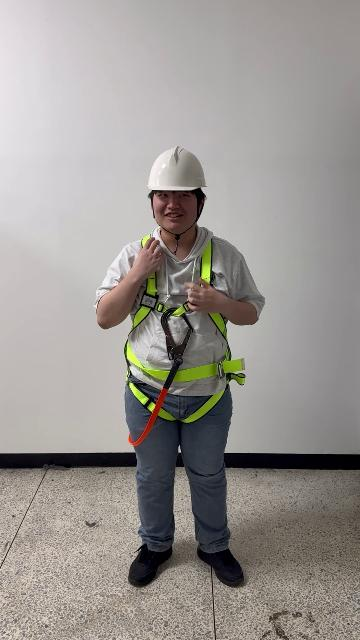helmet_worn: (147, 145, 208, 192)
shoe_not_worn: (128, 544, 174, 588), (197, 546, 244, 588)
vest_worn: (122, 238, 243, 426)
